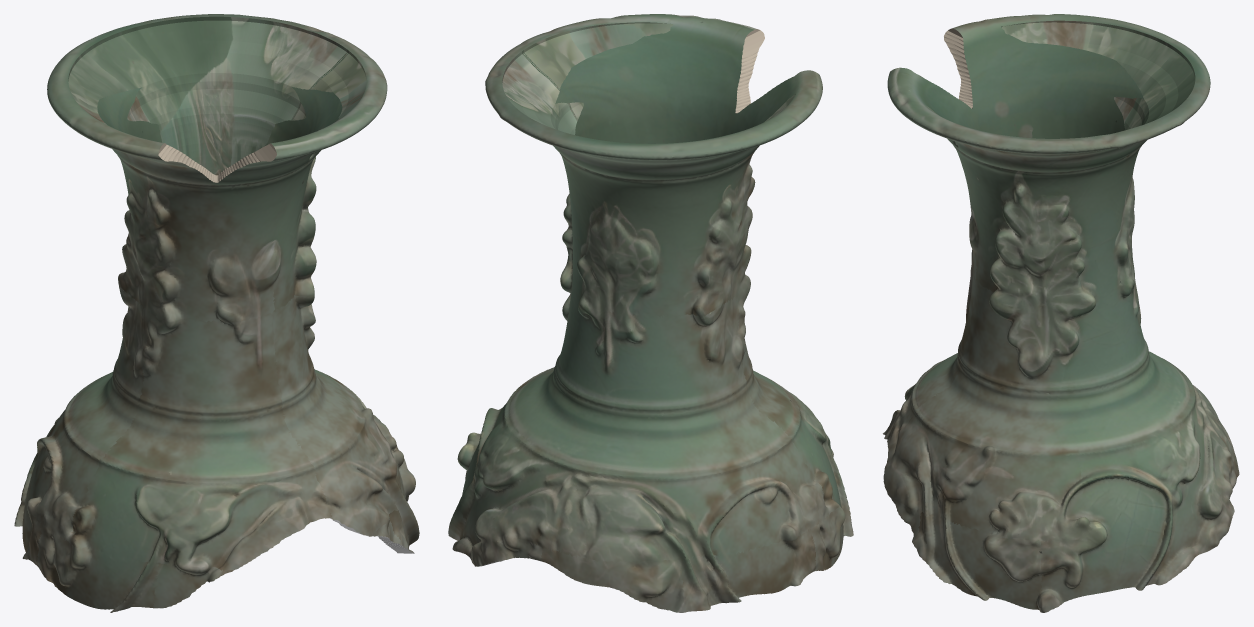
File: first-stage-damaged-celadon.glb
3 renders of one model, left to right at view 1: azimuth 30°, elevation 25°; view 2: azimuth 150°, elevation 25°; view 3: azimuth 270°, elevation 25°, orthographic. The views are drawn at different scales.
Visible parts, largest first — view 1: Vase_Damaged; view 2: Vase_Damaged; view 3: Vase_Damaged.
Boxes of the visible parts, <box> form: Vase_Damaged: <box>14,14,419,612</box>; Vase_Damaged: <box>448,14,853,612</box>; Vase_Damaged: <box>882,14,1239,612</box>.
Size of the model in its own units: 0.4526 by 0.5901 by 0.4199.
Materials: 3 (1 with a texture image).
